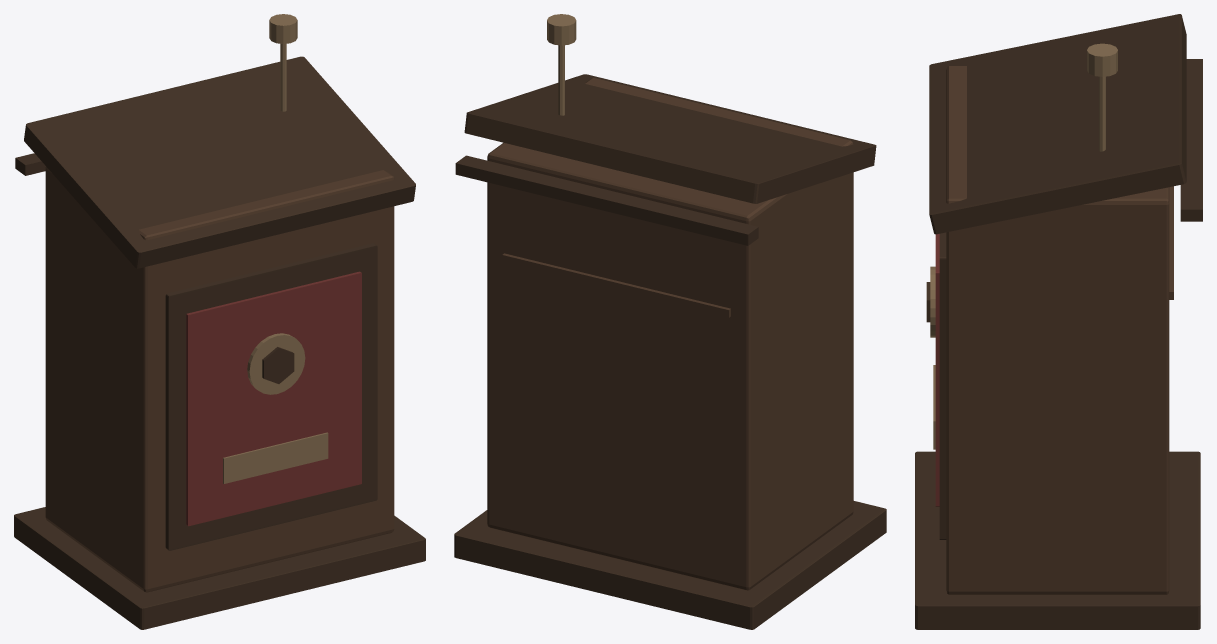
Rendered from tr_lectern.glb.
3 renders of one model, left to right at view 1: azimuth 30°, elevation 25°; view 2: azimuth 150°, elevation 25°; view 3: azimuth 270°, elevation 25°, orthographic. The views are drawn at different scales.
Visible parts, largest first — view 1: tr_lectern; view 2: tr_lectern; view 3: tr_lectern.
Part boxes in pixels (x1,y1,x2,y2): tr_lectern: (14, 14, 425, 629); tr_lectern: (454, 14, 886, 629); tr_lectern: (915, 14, 1202, 629).
Bounding box in the file's own units: 0.82 × 1.36 × 0.645.
